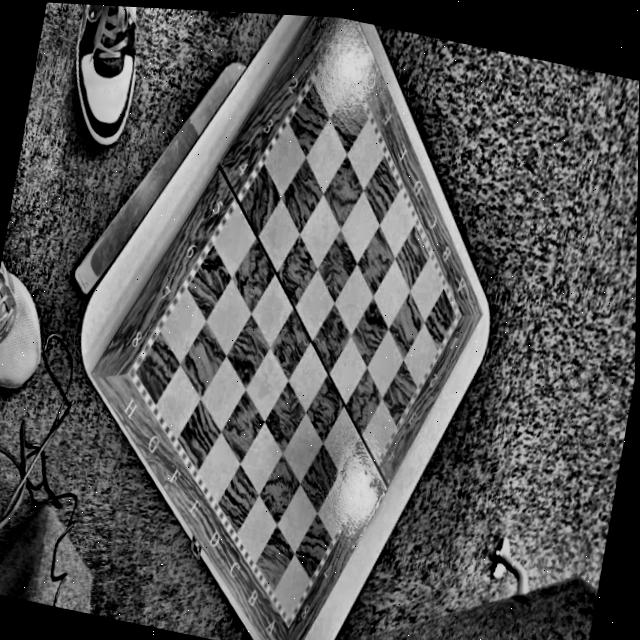chessboard: (95, 17, 488, 640)
